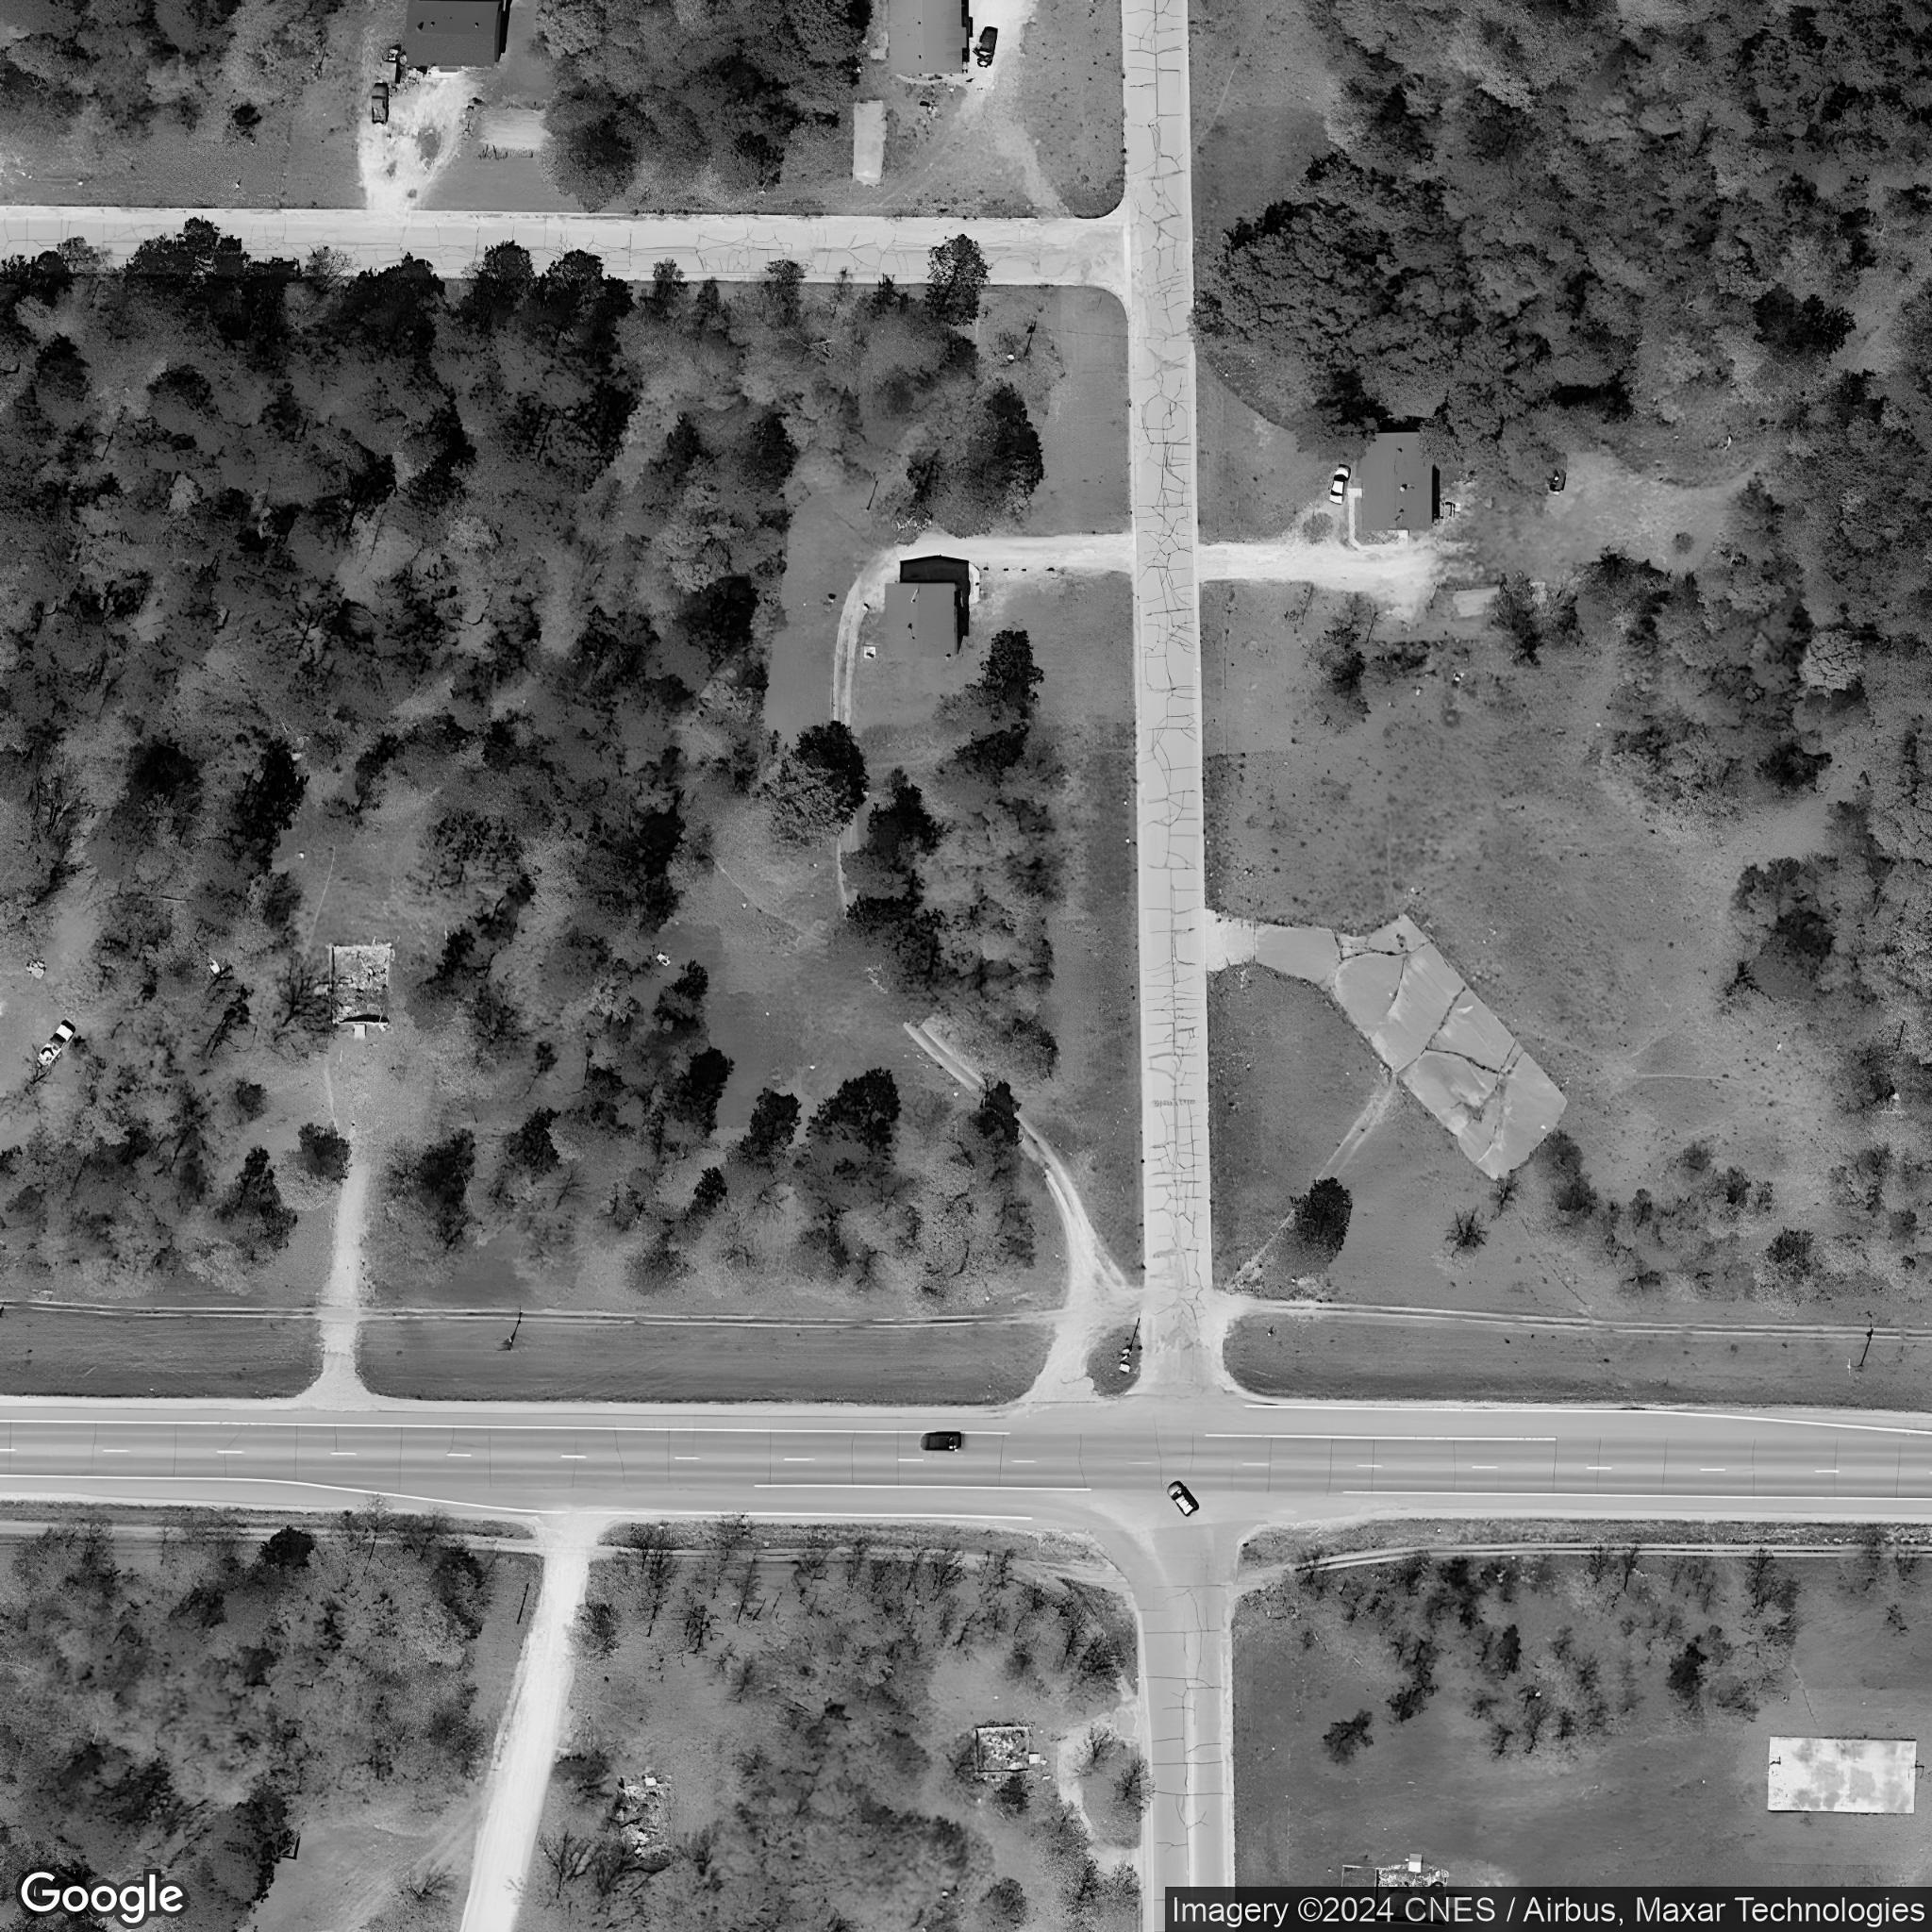House: (1355, 430, 1435, 533), (403, 0, 502, 69), (883, 579, 961, 665), (886, 0, 964, 78)
